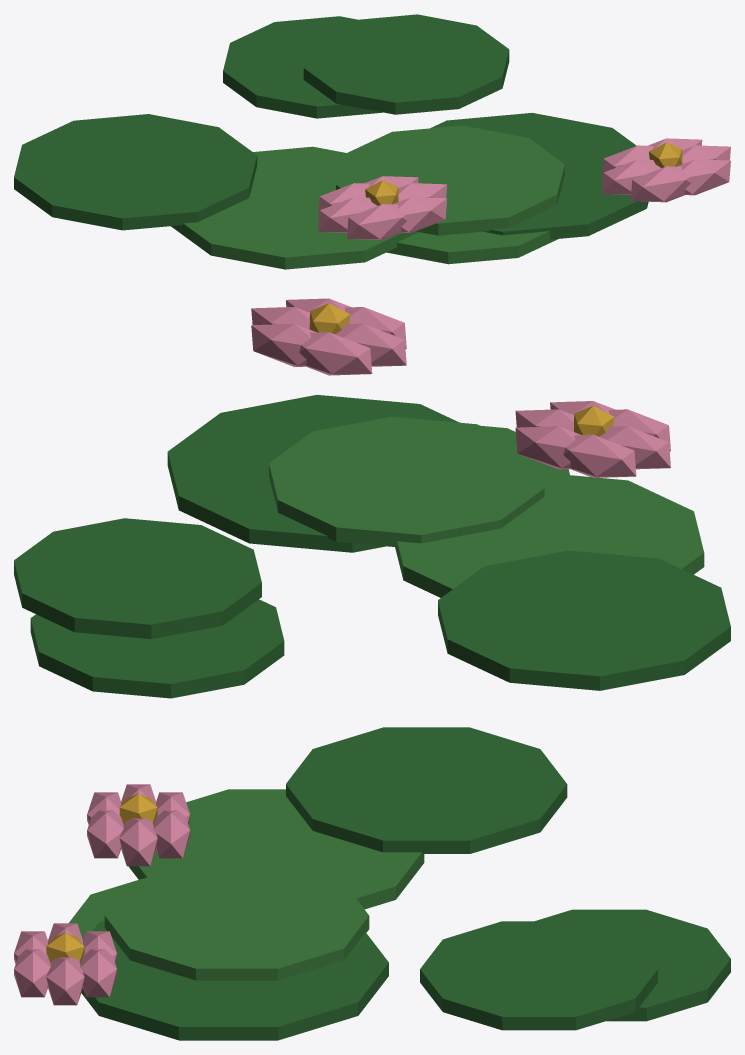
The model's file is LilyPads.glb.
The picture shows the model from 3 angles, top to bottom: view 1: azimuth 30°, elevation 25°; view 2: azimuth 150°, elevation 25°; view 3: azimuth 270°, elevation 25°; orthographic projection. The views are drawn at different scales.
Parts seen in each view (by area): view 1: LilyPads; view 2: LilyPads; view 3: LilyPads.
Boxes of the visible parts, box(x1,y1,x2,y2) form: LilyPads: box(14, 14, 730, 269); LilyPads: box(14, 298, 730, 698); LilyPads: box(14, 727, 730, 1040).
Bounding box in the file's own units: 5.64 × 0.83 × 5.75.
